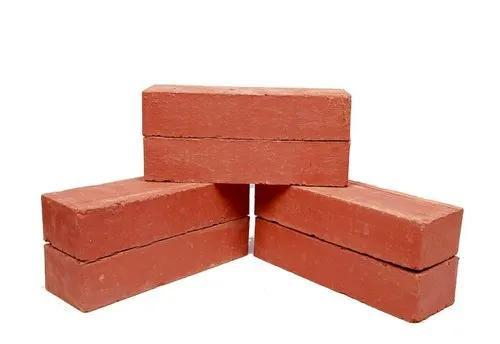brick: (254, 212, 420, 324), (81, 215, 251, 312), (255, 174, 422, 272), (78, 180, 251, 264), (140, 88, 352, 140), (144, 139, 349, 185)
